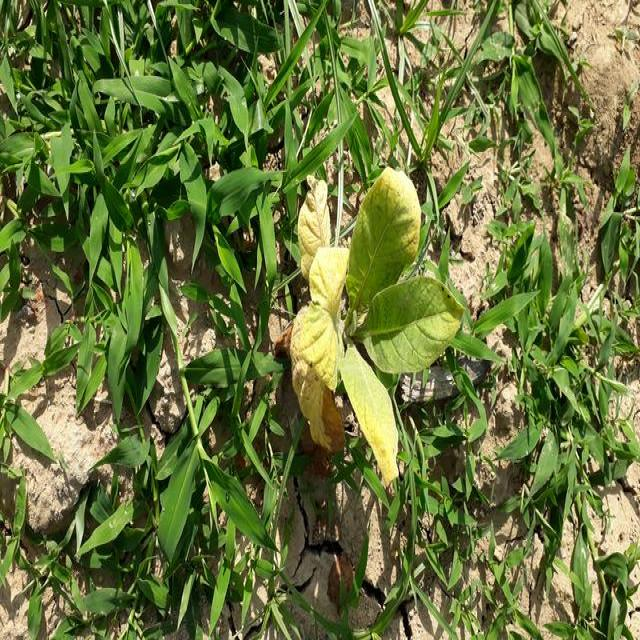crop: (296, 170, 472, 482)
